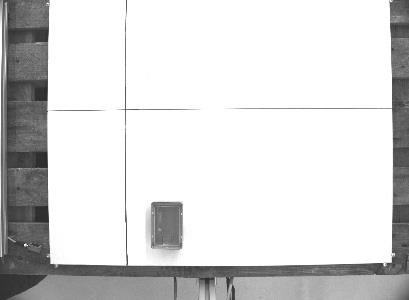kltxs: (148, 198, 185, 252)
